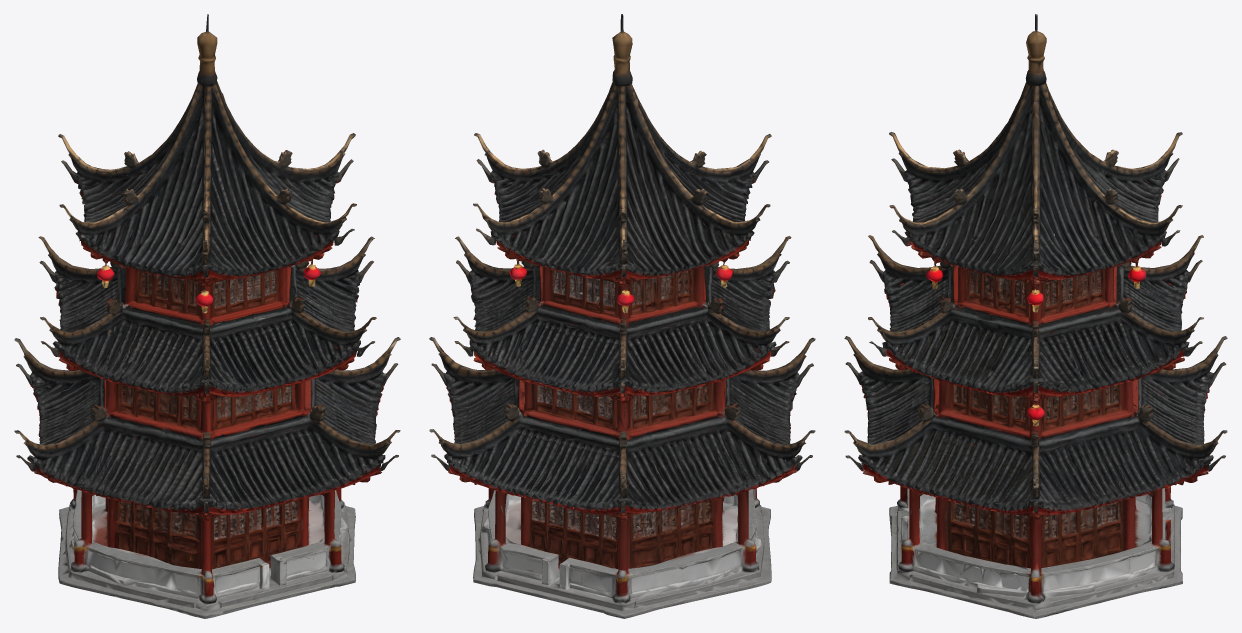
File: pavilion.glb
The picture shows the model from 3 angles, left to right: view 1: azimuth 30°, elevation 25°; view 2: azimuth 150°, elevation 25°; view 3: azimuth 270°, elevation 25°; orthographic projection.
Size of the model in its own units: 1.43 by 1.9 by 1.24.
1 material, 1 textured.
